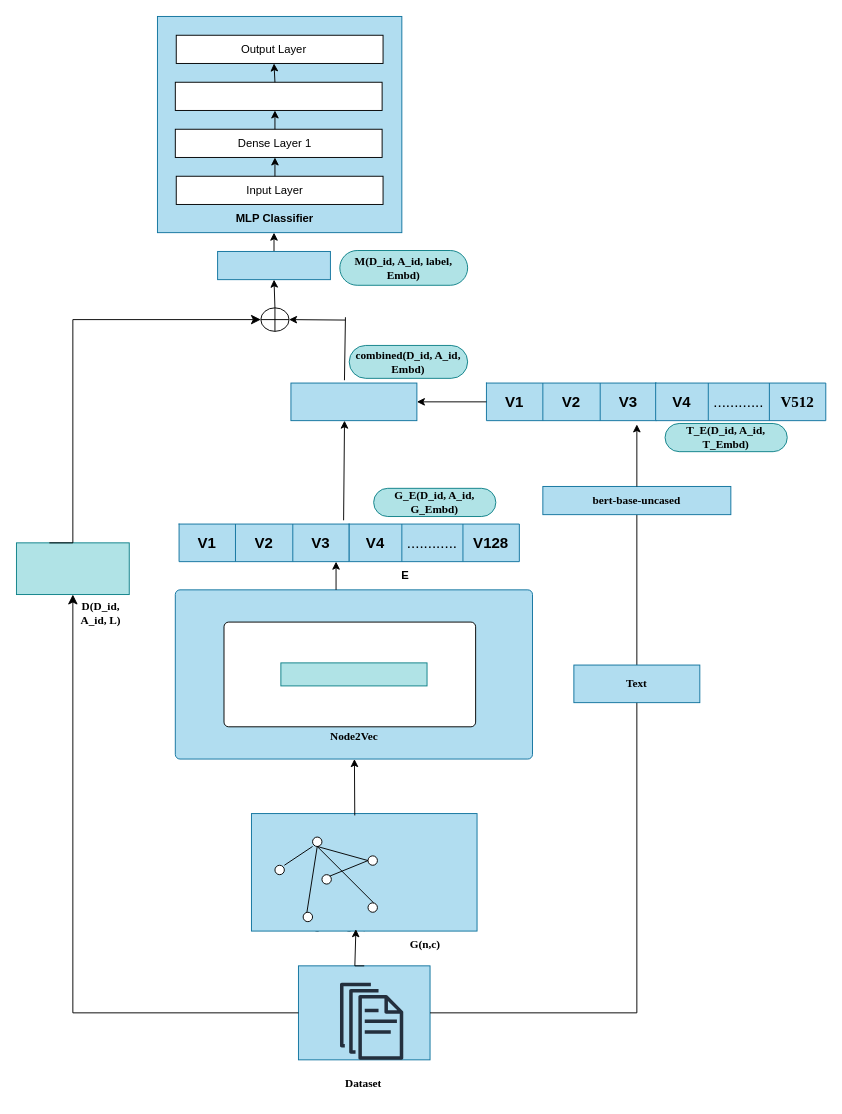
The diagram is 842 pixels wide and 1114 high, and some of its shapes have lost their labels. The shapes that lost their labels are listed below. From the top down, each one's box as (x1, y1, x2, y2) in pixels, then its label:
(174, 81, 382, 110): Dense Layer 2
(217, 251, 330, 280): Merged FILE
(290, 382, 417, 421): Aggregation
(16, 542, 129, 595): Labels Extraction
(280, 662, 427, 686): Random Walk
